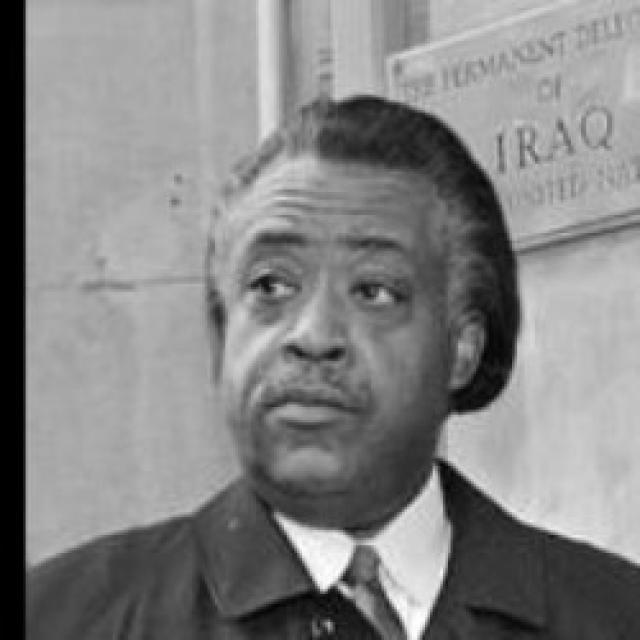real: (220, 152, 450, 498), (251, 247, 412, 325)
